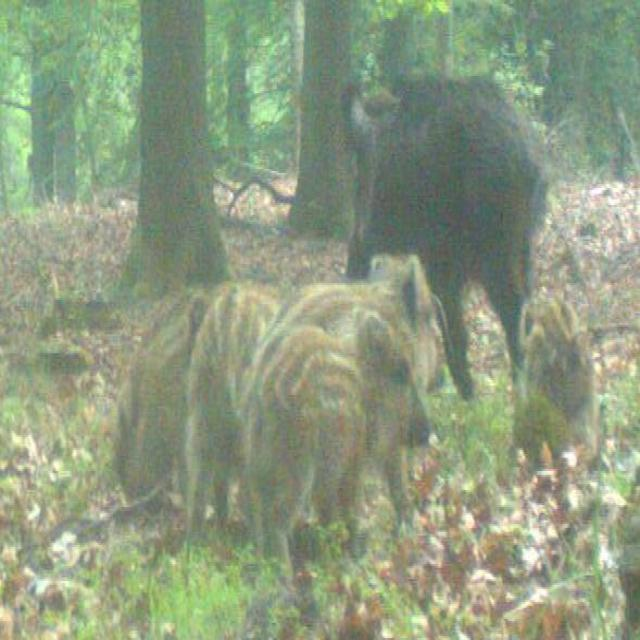pig: (326, 50, 547, 338), (249, 348, 455, 562), (102, 272, 204, 511), (337, 256, 468, 407)
